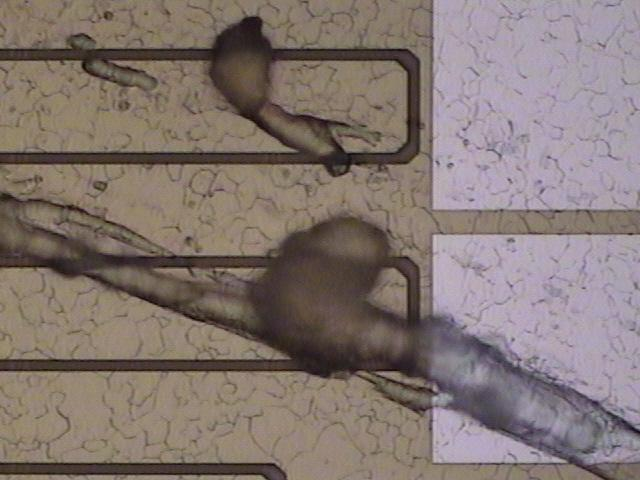PO CONTAMINATION: (1, 12, 640, 480)
